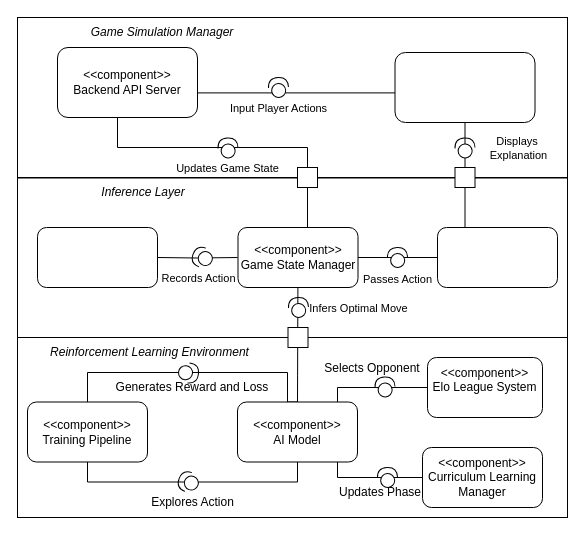
The diagram is 585 pixels wide and 535 high, and some of its shapes have lost their labels. The shapes that lost their labels are listed below. From the top down, each one's centre as x and y in pixels, then its label:
At point (464, 87): "<<component>> User Interface".
At point (97, 257): "<<component>> Game State Database".
At point (497, 257): "<<component>> Explanation Pipeline".
